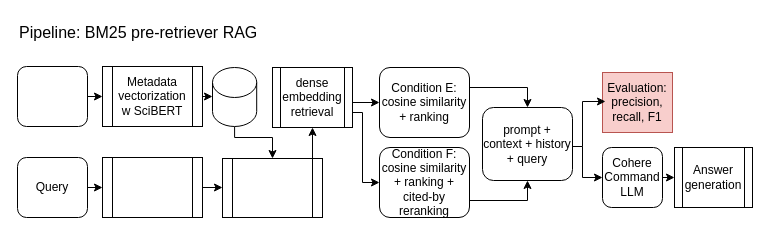
Image size: 770x235. Some labels were removed from this diagram. The box of each missing label's shape, as (x1, y1, x2, y2) in pixels:
BM25 pre-retriever: top-k keyword match: (222, 158, 322, 218)
db: (212, 66, 257, 126)
Metadata chunks: (16, 66, 88, 126)
Query vectorization w SciBERT: (102, 156, 202, 218)
